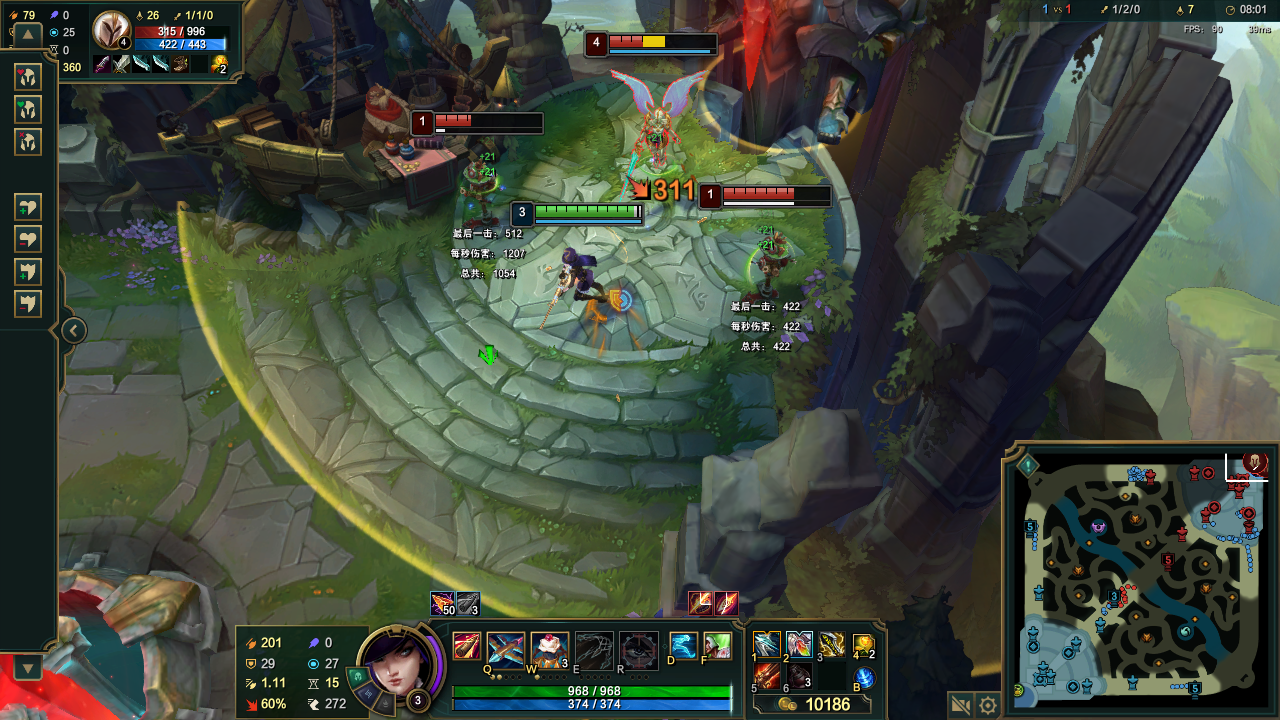DFYX: (602, 32, 716, 50), (430, 111, 542, 129), (723, 186, 831, 199)
